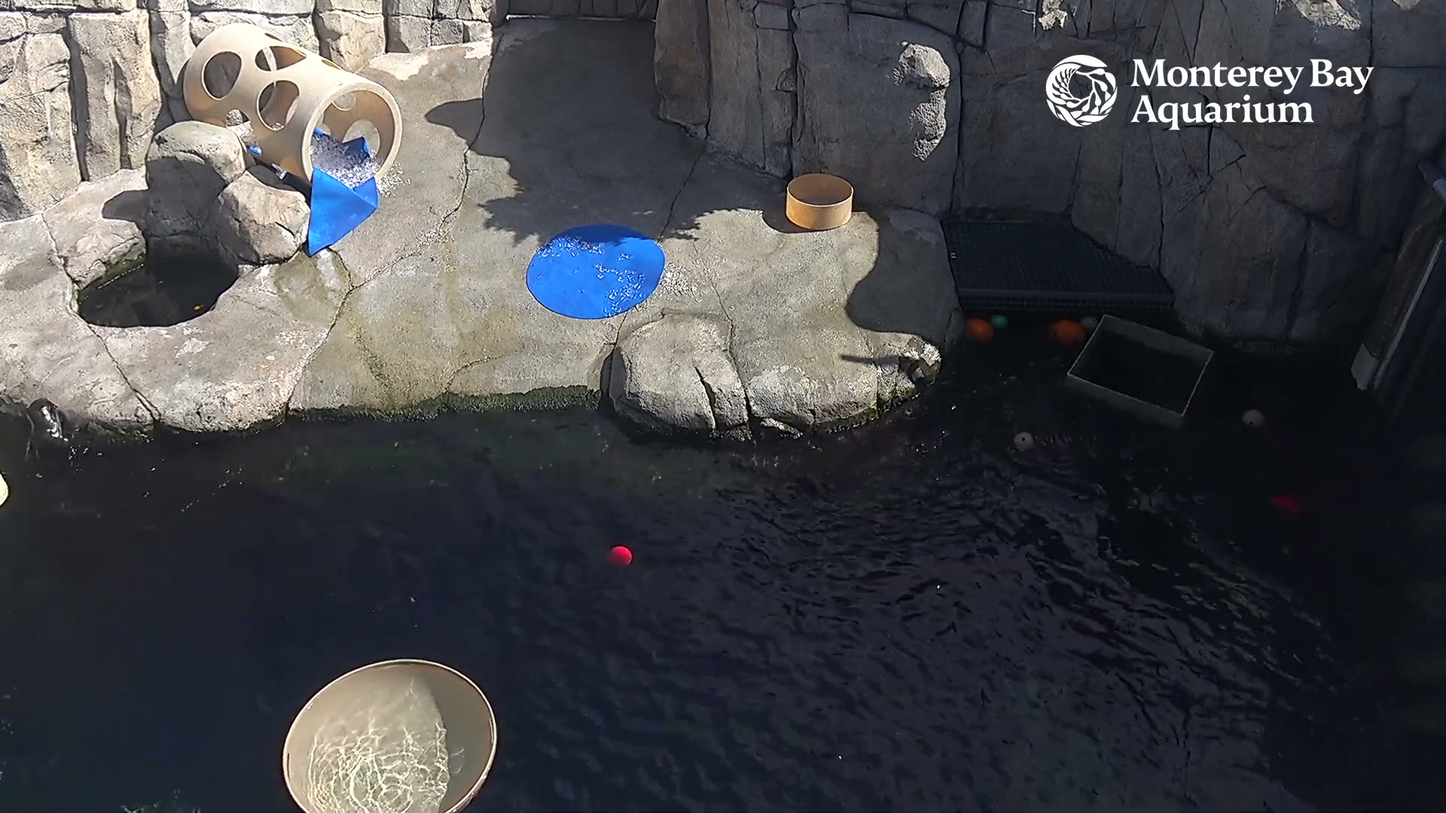Southern Sea Otter: (22, 380, 85, 490)
